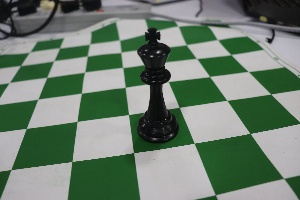black_king: (127, 15, 180, 149)
